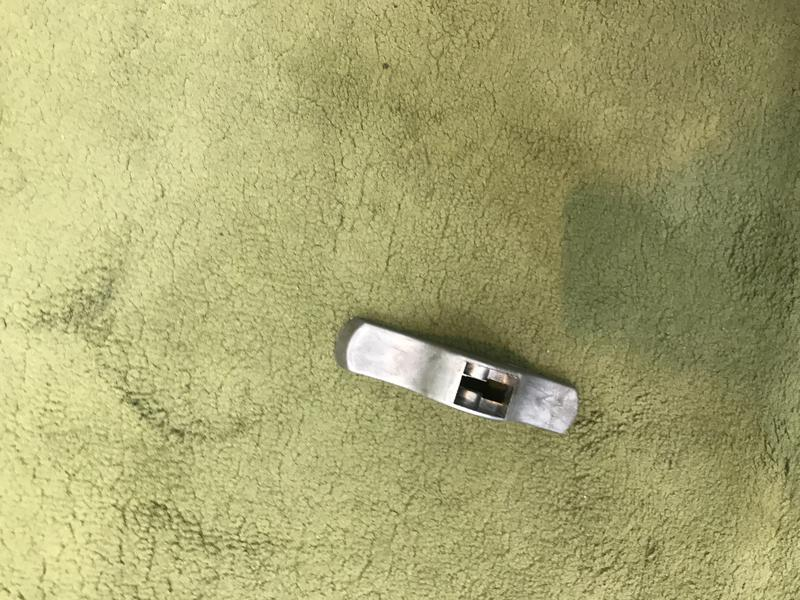zapchast: (317, 305, 596, 460)
